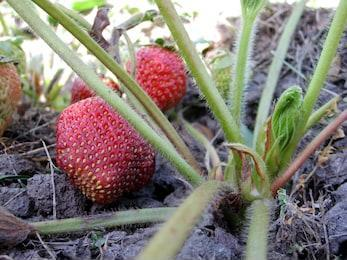Fresa: (52, 94, 161, 207), (126, 40, 191, 111)
